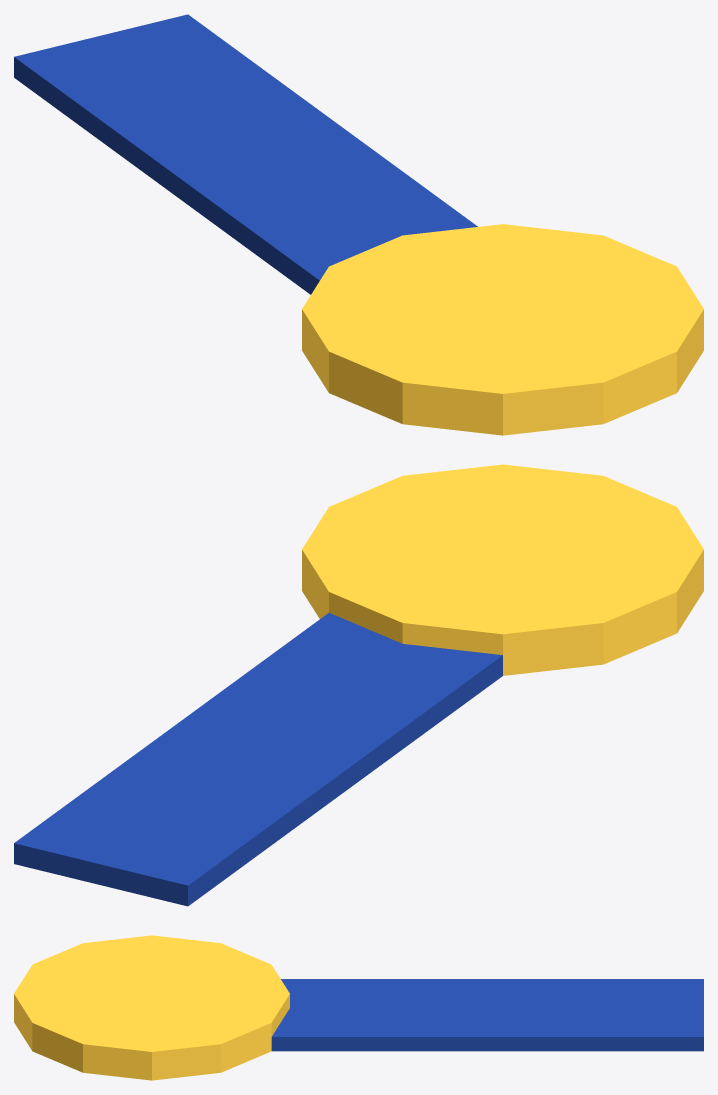
Rendered from contest_medal.glb.
3 views of the same model, one above another, from view 1: azimuth 30°, elevation 25°; view 2: azimuth 150°, elevation 25°; view 3: azimuth 270°, elevation 25° (orthographic). The views are drawn at different scales.
Visible parts, largest first — view 1: medal_gold, ribbon_ribbon; view 2: medal_gold, ribbon_ribbon; view 3: medal_gold, ribbon_ribbon.
Boxes of the visible parts, x1,y1,x2,y2 form: medal_gold: (302, 224, 703, 435); ribbon_ribbon: (14, 14, 477, 294); medal_gold: (302, 464, 703, 675); ribbon_ribbon: (14, 613, 502, 906); medal_gold: (14, 935, 289, 1080); ribbon_ribbon: (271, 979, 703, 1051).
Bounding box in the file's own units: 0.07 × 0.008 × 0.175.
